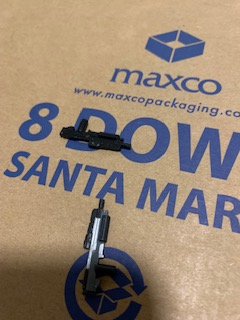rifle: (81, 193, 117, 291), (59, 117, 133, 155)
